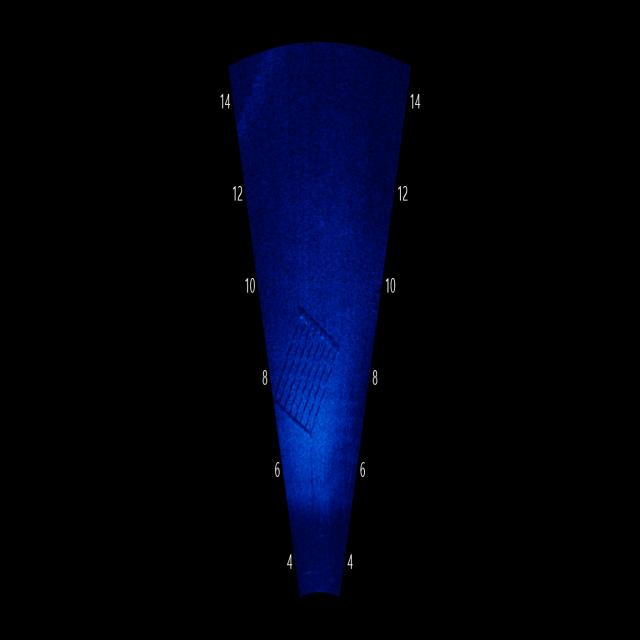square: (272, 303, 346, 453)
